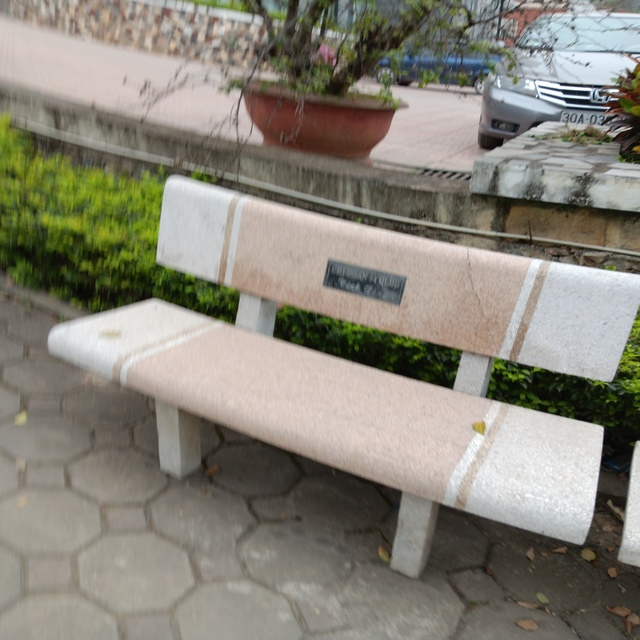gheda: (56, 176, 640, 586)
